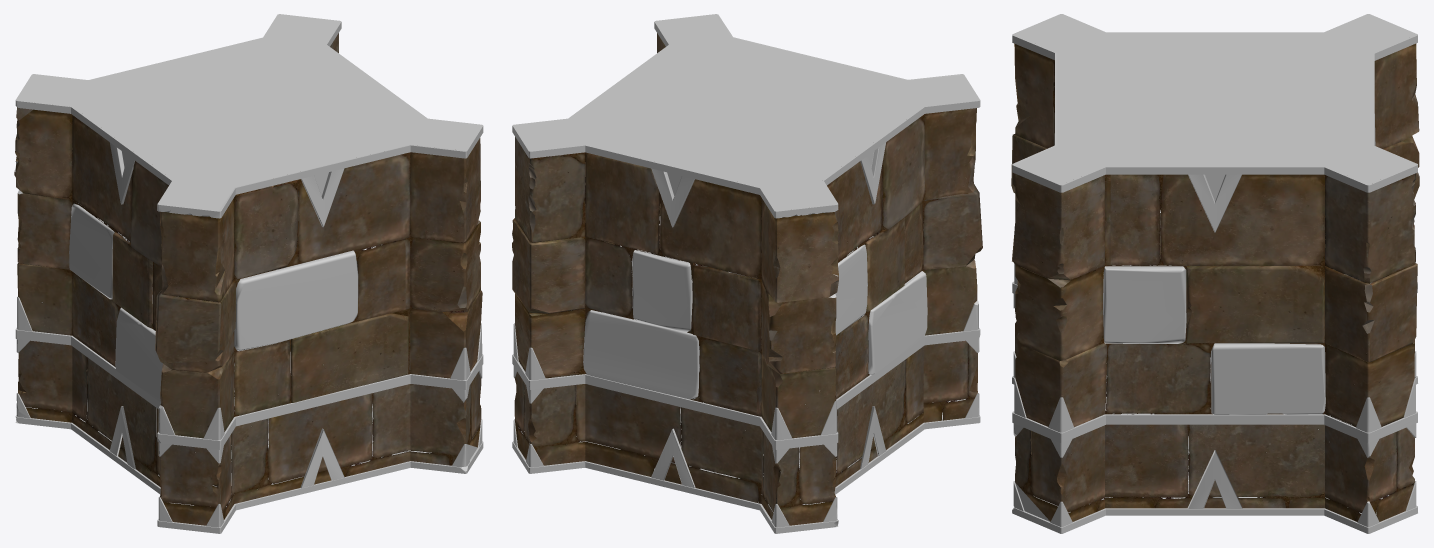
3 views of the same model, side by side, from view 1: azimuth 30°, elevation 25°; view 2: azimuth 150°, elevation 25°; view 3: azimuth 270°, elevation 25° (orthographic). The views are drawn at different scales.
Visible parts, largest first — view 1: SM_DK_8m_TowerBase_01v1_LOD0; view 2: SM_DK_8m_TowerBase_01v1_LOD0; view 3: SM_DK_8m_TowerBase_01v1_LOD0.
Boxes of the visible parts, x1,y1,x2,y2 form: SM_DK_8m_TowerBase_01v1_LOD0: (14, 14, 483, 533); SM_DK_8m_TowerBase_01v1_LOD0: (512, 14, 982, 533); SM_DK_8m_TowerBase_01v1_LOD0: (1011, 14, 1419, 533).
Size of the model in its own units: 5.83 by 5.49 by 5.83.
